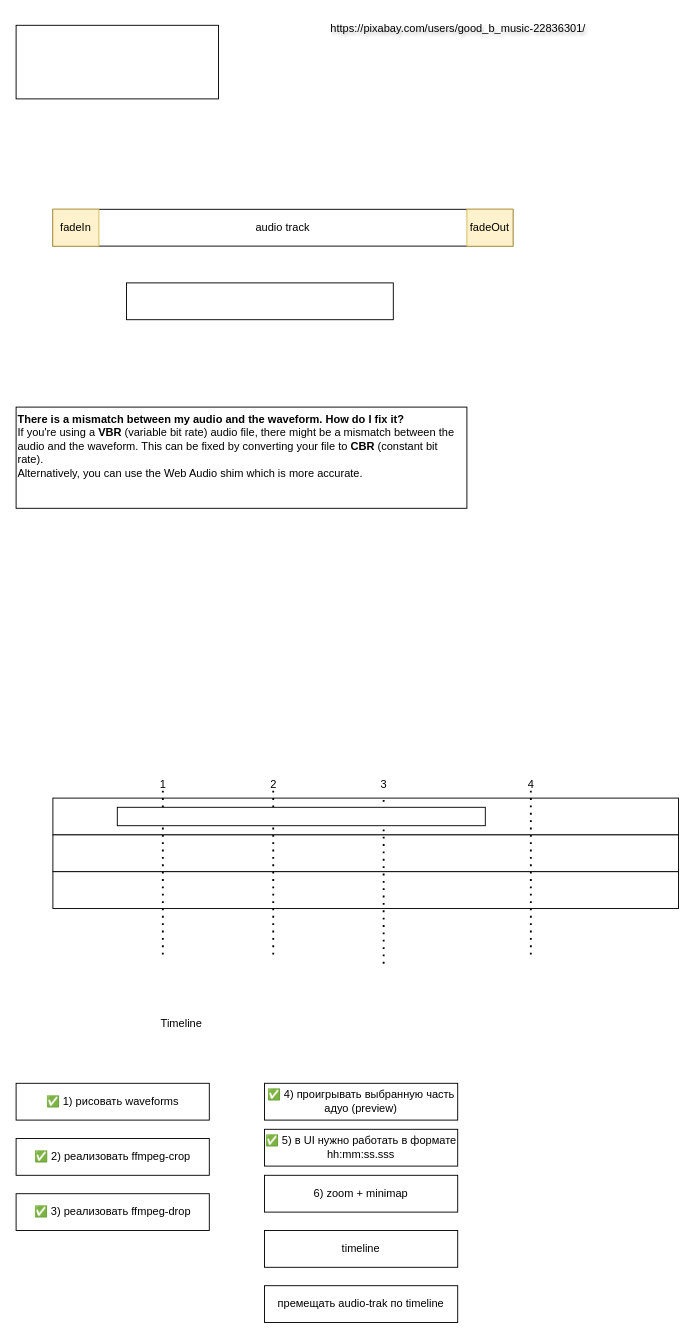
Some shapes in this 695 by 1339 pixel diagram are drawn without their labels. Here are the shapes that lost their labels. From the top down, the centre of each, then its label:
At point 116,61: "auio visualization trim fade in fade out".
At point 259,301: "waveform".
At point 300,816: "audio-track".
